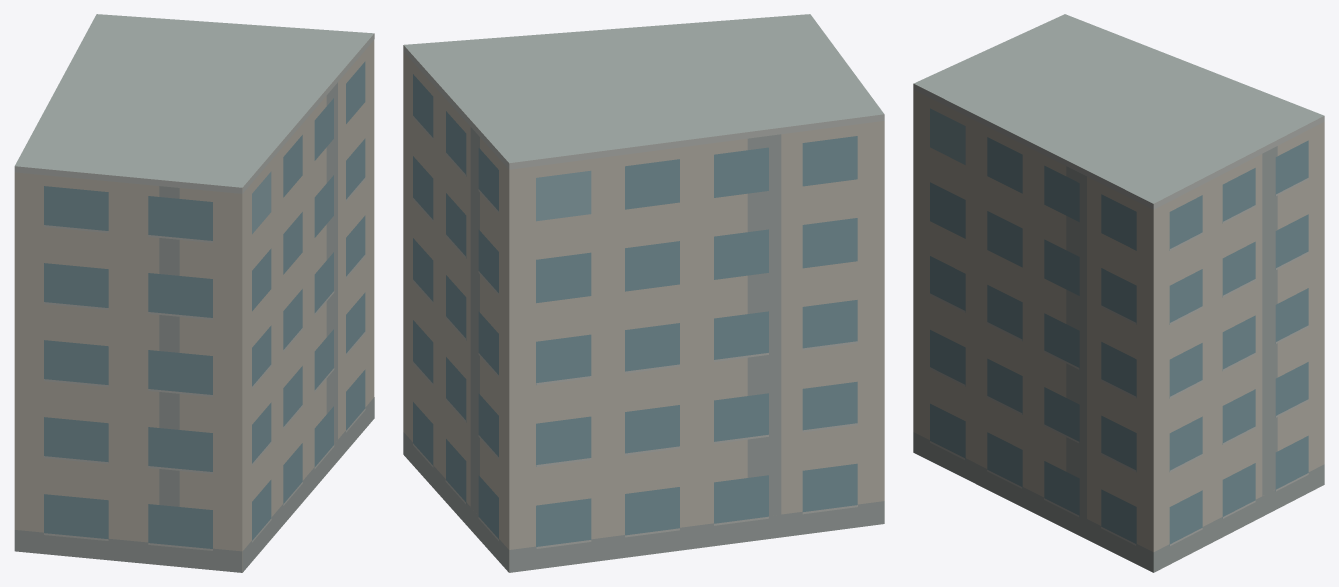
File: residential-b8054dbf-0eda-4cf4-a323-573d5ff2f1a6.glb
3 renders of one model, left to right at view 1: azimuth 30°, elevation 25°; view 2: azimuth 150°, elevation 25°; view 3: azimuth 270°, elevation 25°, orthographic. The views are drawn at different scales.
Visible parts, largest first — view 1: residential-b8054dbf-0eda-4cf4-a323-573d5ff2f1a6.tmp; view 2: residential-b8054dbf-0eda-4cf4-a323-573d5ff2f1a6.tmp; view 3: residential-b8054dbf-0eda-4cf4-a323-573d5ff2f1a6.tmp.
Boxes of the visible parts, x1,y1,x2,y2 form: residential-b8054dbf-0eda-4cf4-a323-573d5ff2f1a6.tmp: (14, 14, 374, 572); residential-b8054dbf-0eda-4cf4-a323-573d5ff2f1a6.tmp: (403, 14, 884, 572); residential-b8054dbf-0eda-4cf4-a323-573d5ff2f1a6.tmp: (913, 14, 1324, 572).
Bounding box in the file's own units: 16.83 × 15.25 × 15.4.
